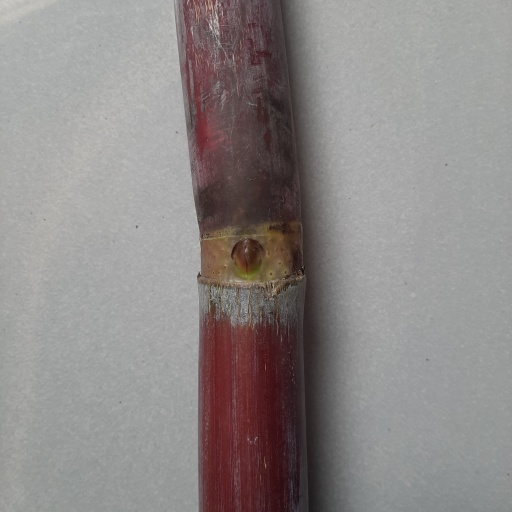Bud: (231, 238, 264, 277)
